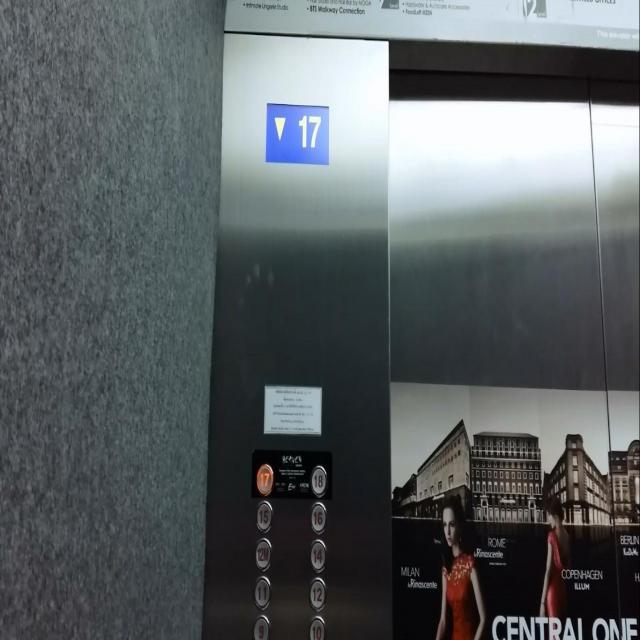10: (307, 614, 326, 639)
11: (252, 574, 272, 610)
12: (307, 575, 326, 612)
12M: (253, 536, 273, 572)
14: (308, 538, 327, 572)
15: (255, 499, 273, 533)
16: (307, 500, 327, 535)
17: (255, 460, 274, 496)
18: (309, 462, 328, 498)
9: (251, 613, 270, 639)
led: (266, 100, 330, 168)
